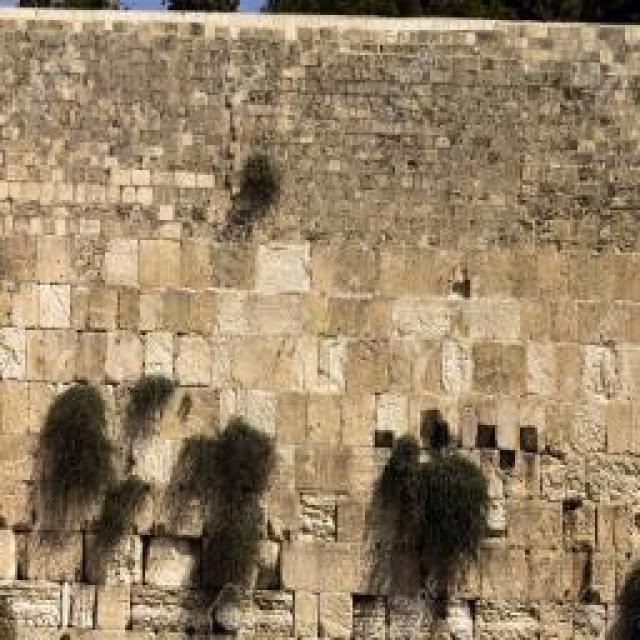Crack: (1, 497, 638, 637)
